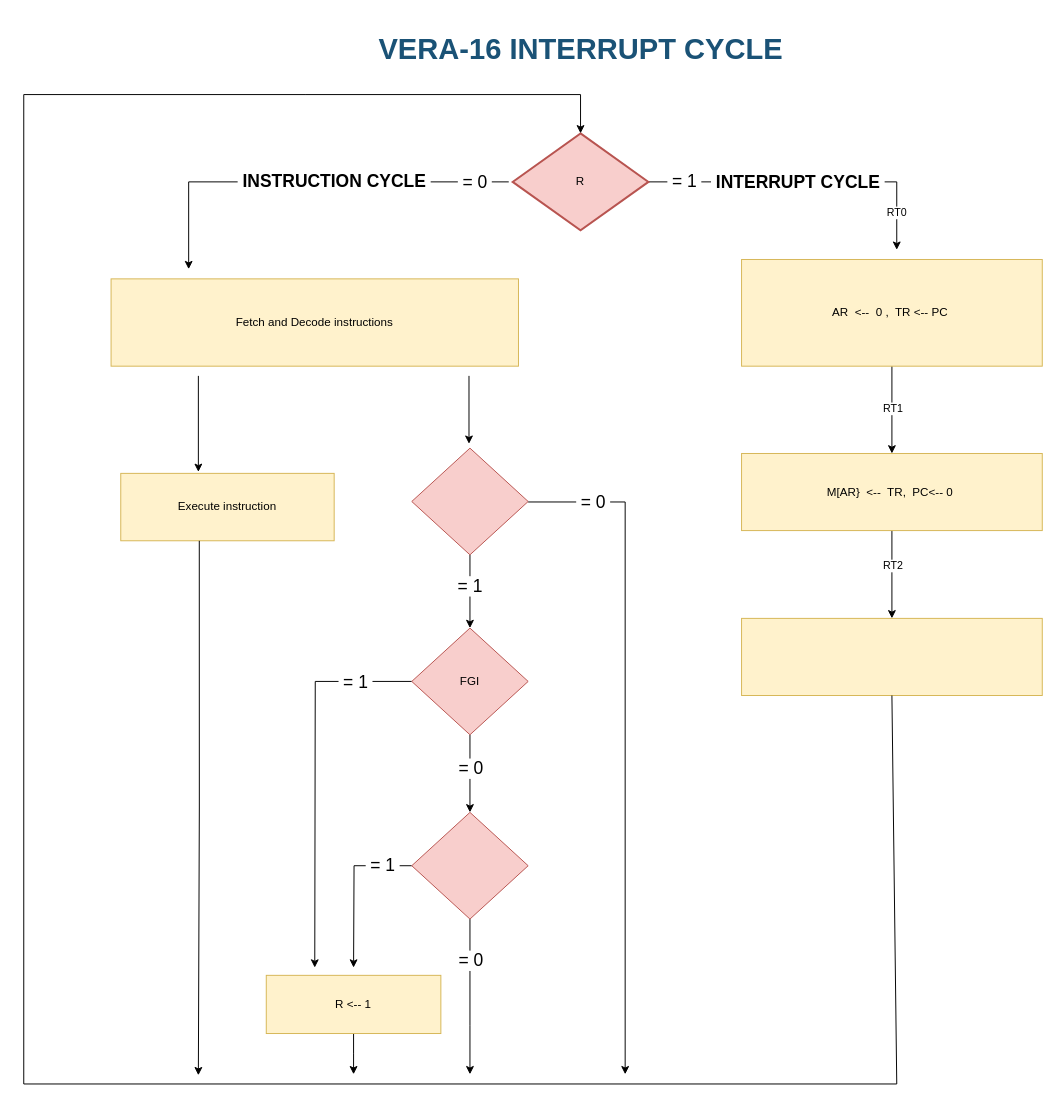
This 1059x1109 diagram has some shape labels left out. Here are the shapes that lost their labels. From the top down, the box of each, then its label:
(411, 447, 528, 555): IEN
(741, 617, 1042, 695): PC <-- PC+1 , IEN <-- 0 , R <--0, SC <--0
(411, 811, 528, 919): FGO
